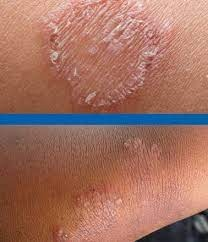Ringworm: (33, 0, 181, 109)
